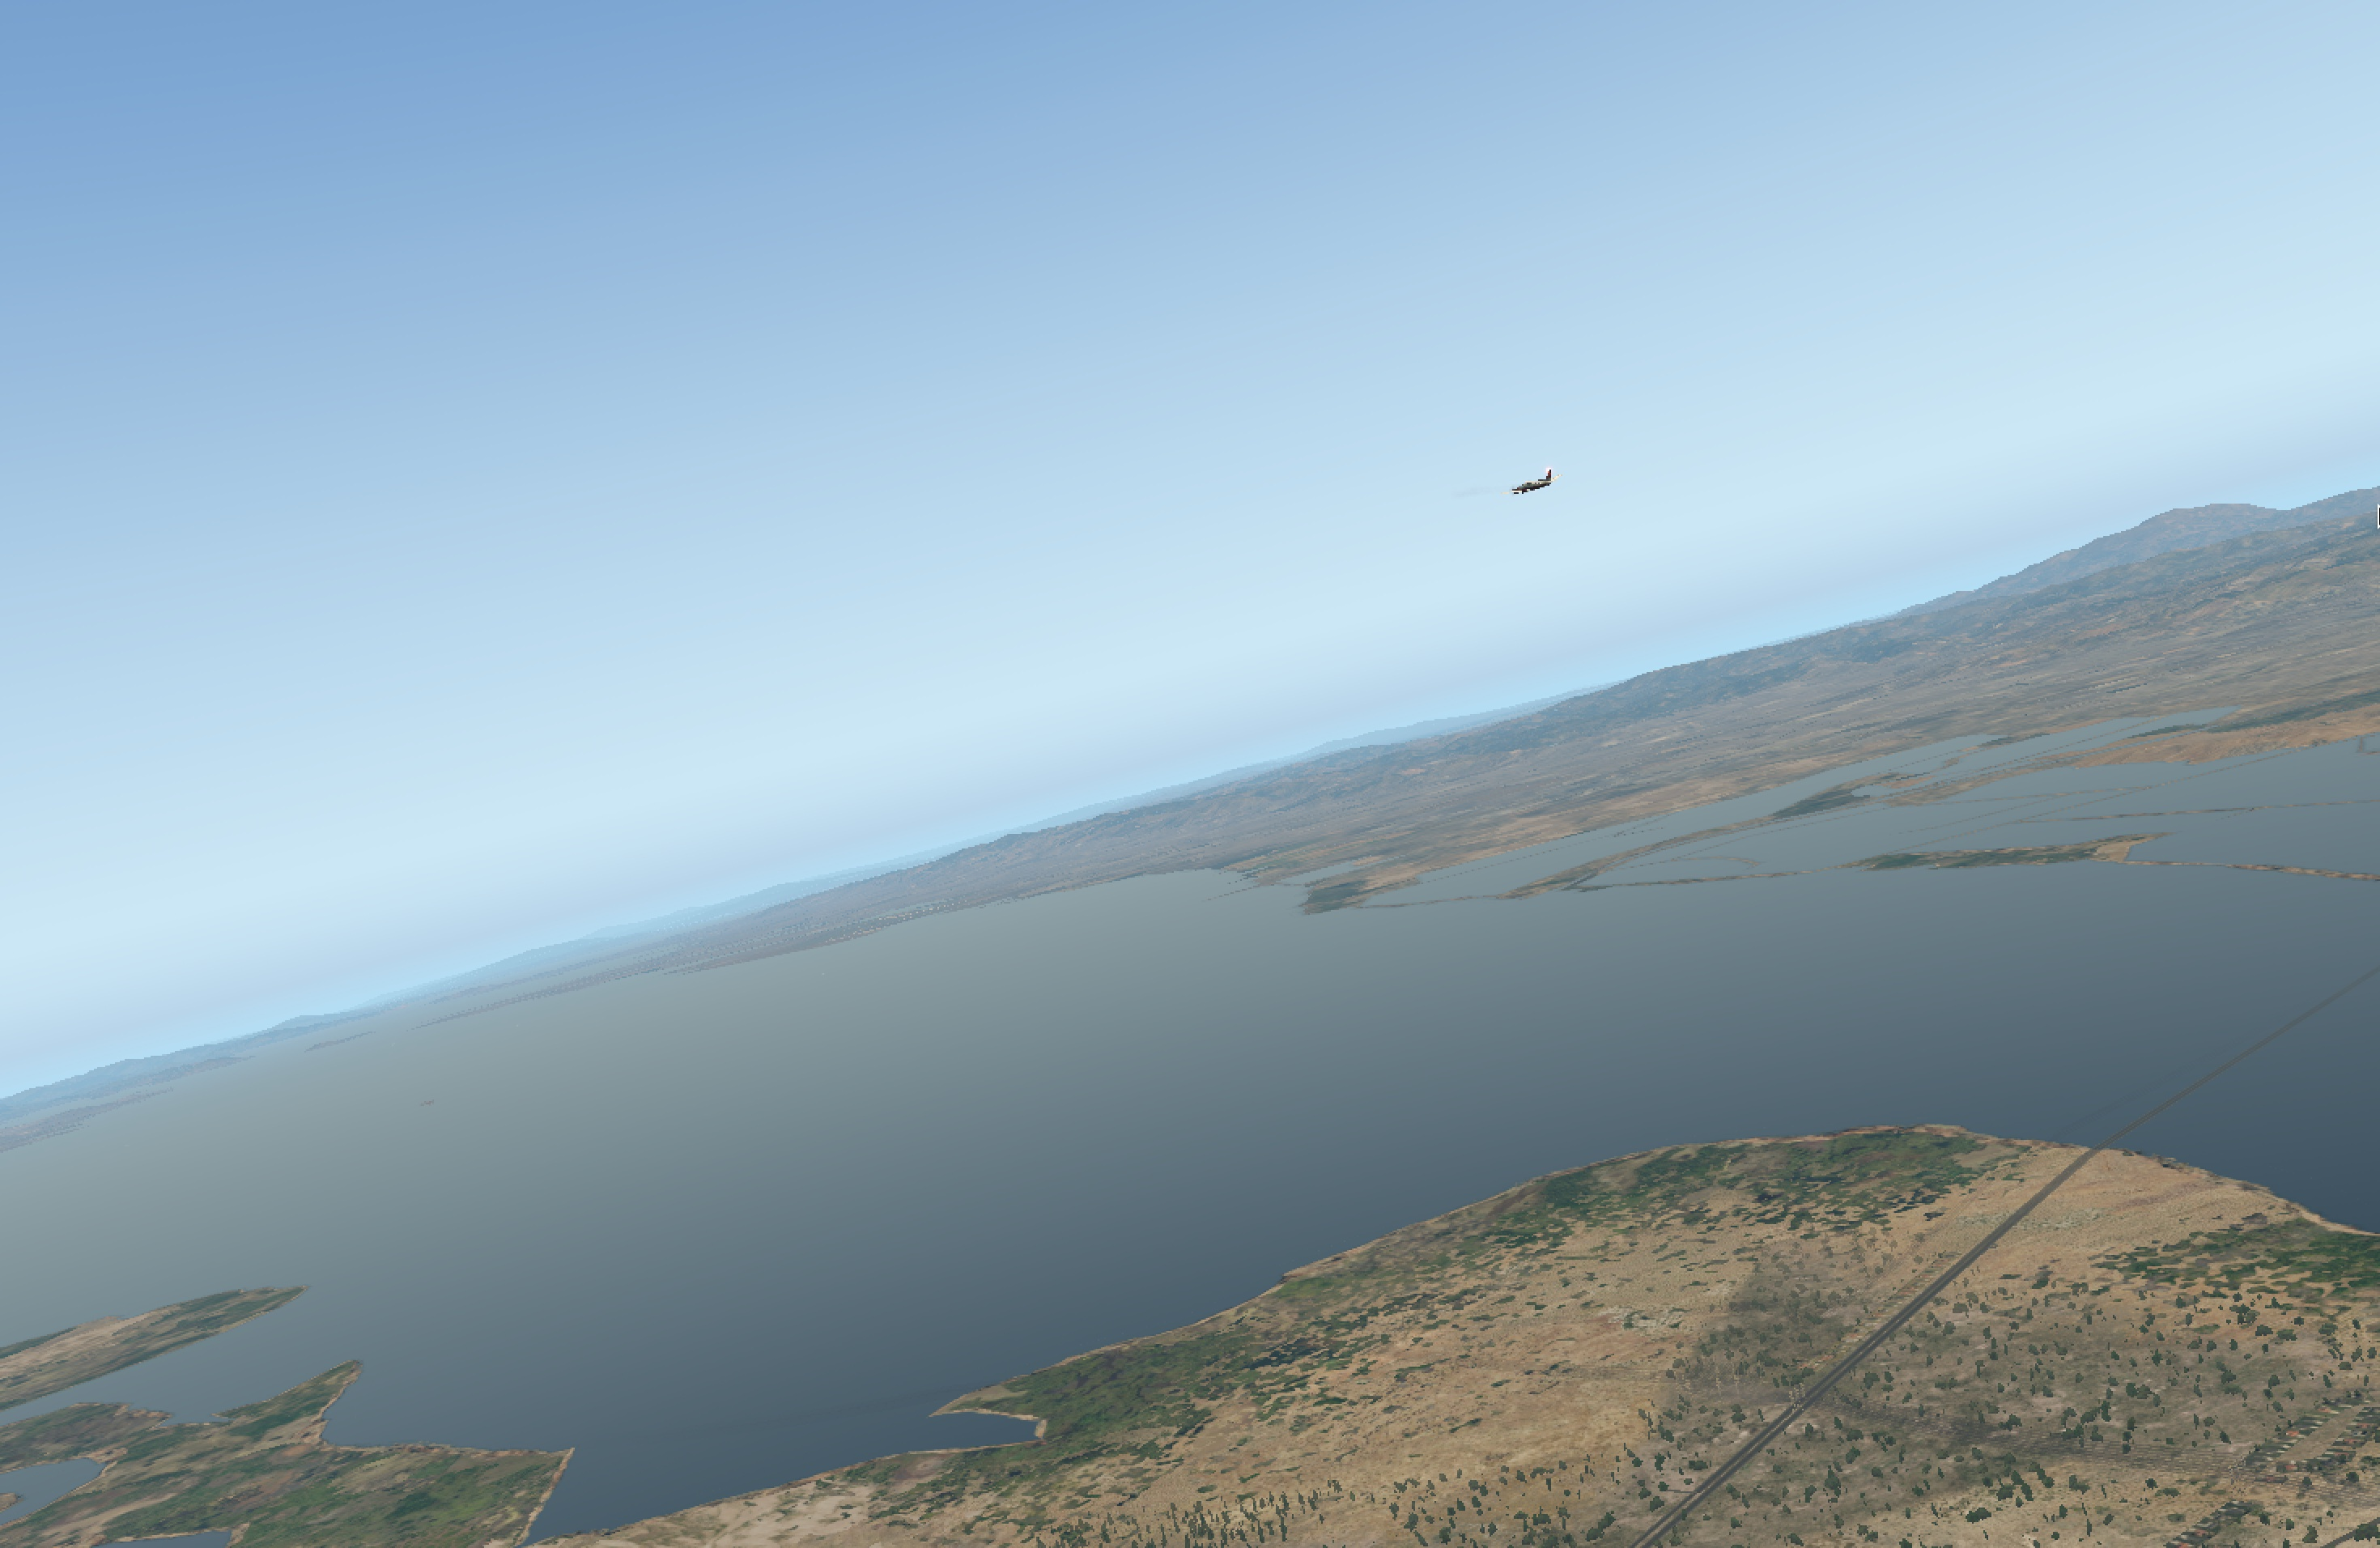aircraft: (1490, 474, 1572, 505)
